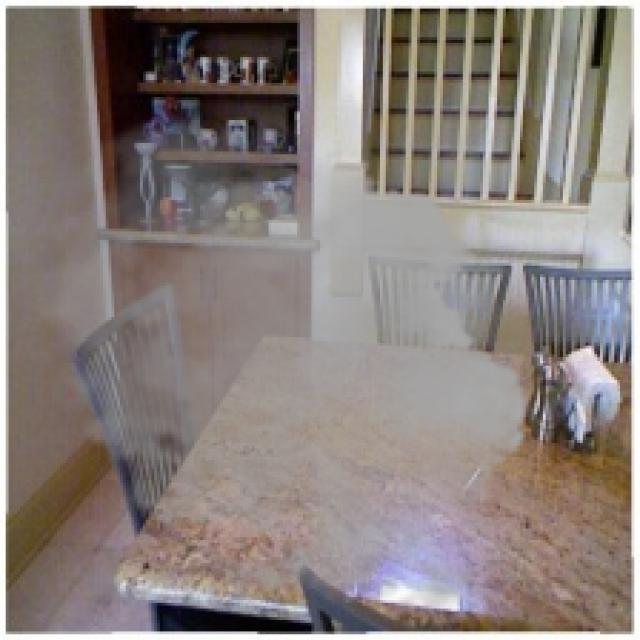smoke: (11, 106, 543, 634)
